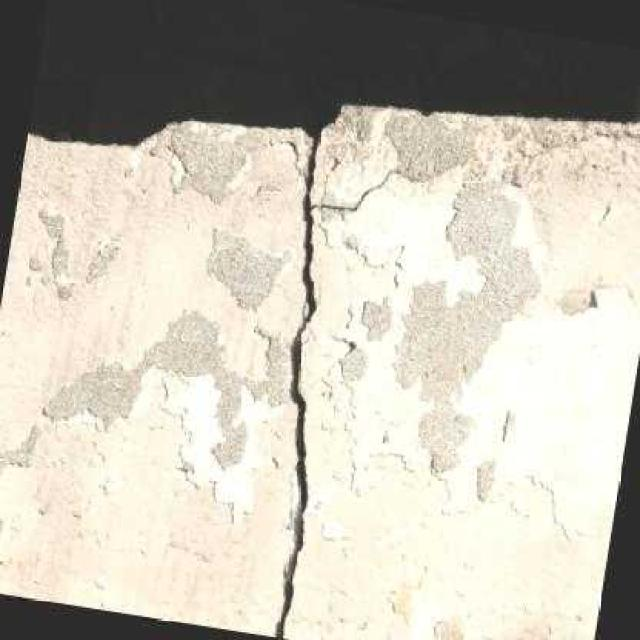D00: (272, 133, 319, 638)
